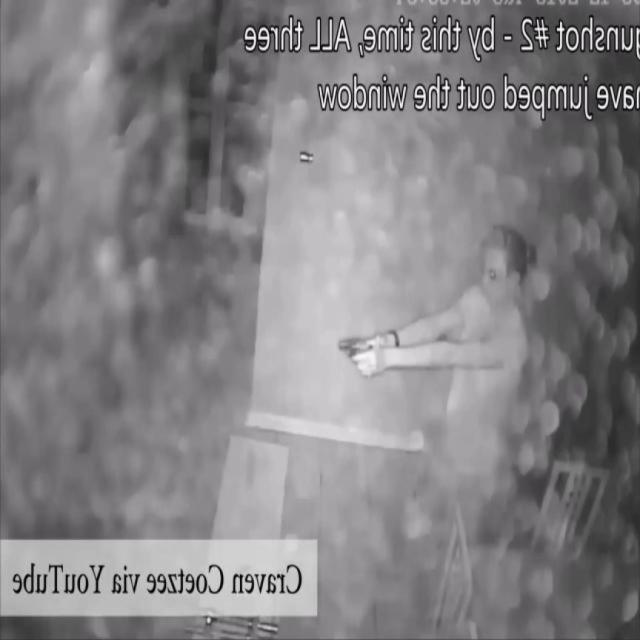pistol: (336, 337, 382, 377)
